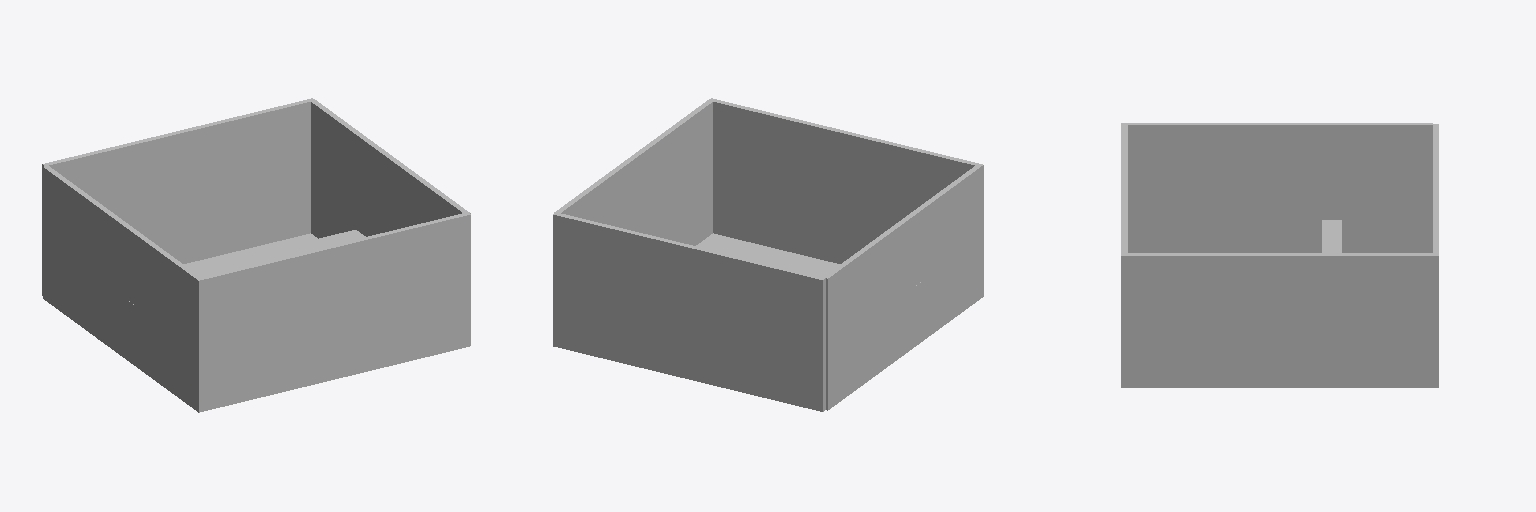
File: Maison.obj
The picture shows the model from 3 angles: view 1: azimuth 30°, elevation 25°; view 2: azimuth 150°, elevation 25°; view 3: azimuth 270°, elevation 25°; orthographic projection.
Parts seen in each view (by area): view 1: Cube.001_Cube.002, Cube.003_Cube.004, Cube.002_Cube.003, Cube_Cube.001, Cube.004_Cube.005, Plane; view 2: Cube.003_Cube.004, Cube.001_Cube.002, Cube.002_Cube.003, Cube_Cube.001, Plane; view 3: Cube_Cube.001, Cube.002_Cube.003, Cube.003_Cube.004, Cube.001_Cube.002, Cube.004_Cube.005.
Part boxes in pixels (bbox=[...]): Cube.001_Cube.002: bbox=[200, 212, 470, 410]; Cube.003_Cube.004: bbox=[42, 98, 315, 295]; Cube.002_Cube.003: bbox=[43, 166, 203, 412]; Cube_Cube.001: bbox=[310, 99, 470, 238]; Cube.004_Cube.005: bbox=[192, 230, 365, 276]; Plane: bbox=[184, 233, 317, 269]; Cube.003_Cube.004: bbox=[553, 212, 825, 411]; Cube.001_Cube.002: bbox=[708, 98, 980, 263]; Cube.002_Cube.003: bbox=[823, 164, 983, 410]; Cube_Cube.001: bbox=[554, 99, 712, 245]; Plane: bbox=[696, 233, 839, 276]; Cube_Cube.001: bbox=[1124, 253, 1434, 387]; Cube.002_Cube.003: bbox=[1121, 123, 1432, 252]; Cube.003_Cube.004: bbox=[1433, 124, 1438, 387]; Cube.001_Cube.002: bbox=[1121, 124, 1127, 387]; Cube.004_Cube.005: bbox=[1322, 220, 1341, 252].
Size of the model in its own units: 15.17 by 7.06 by 15.27.